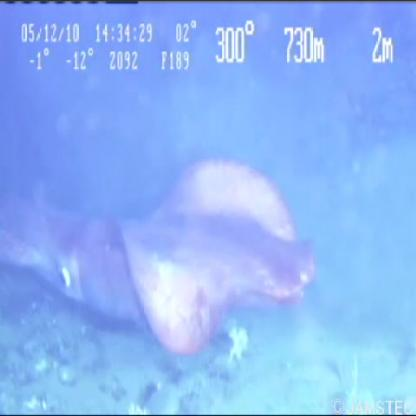Bio: (1, 145, 326, 360)
